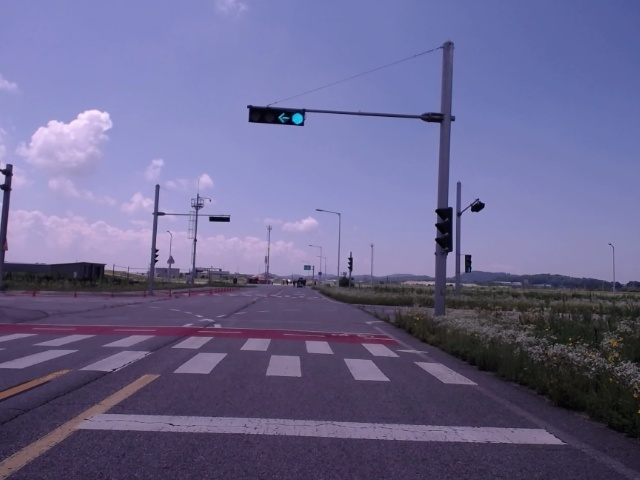all_green_4: (248, 105, 304, 125)
